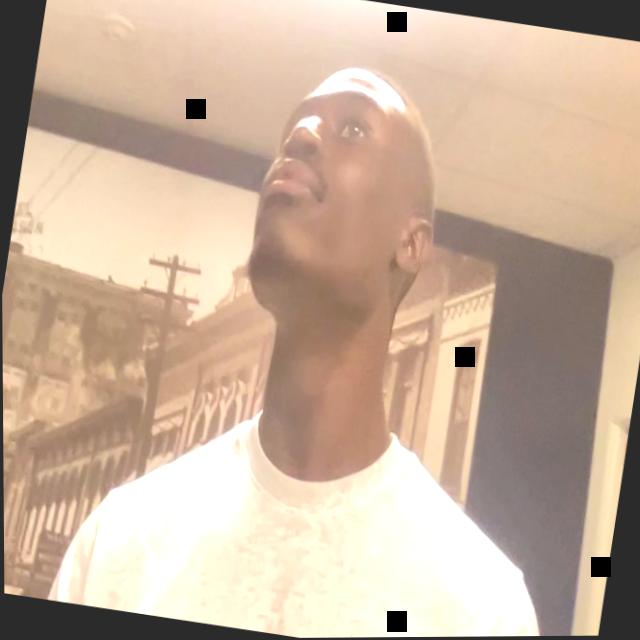NO-Mask: (239, 54, 456, 339)
